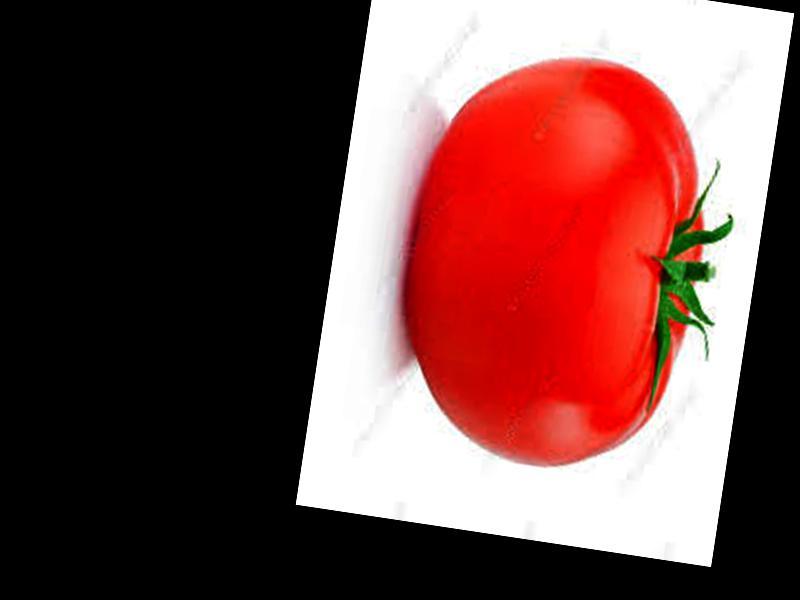Tomato: (390, 38, 726, 485)
